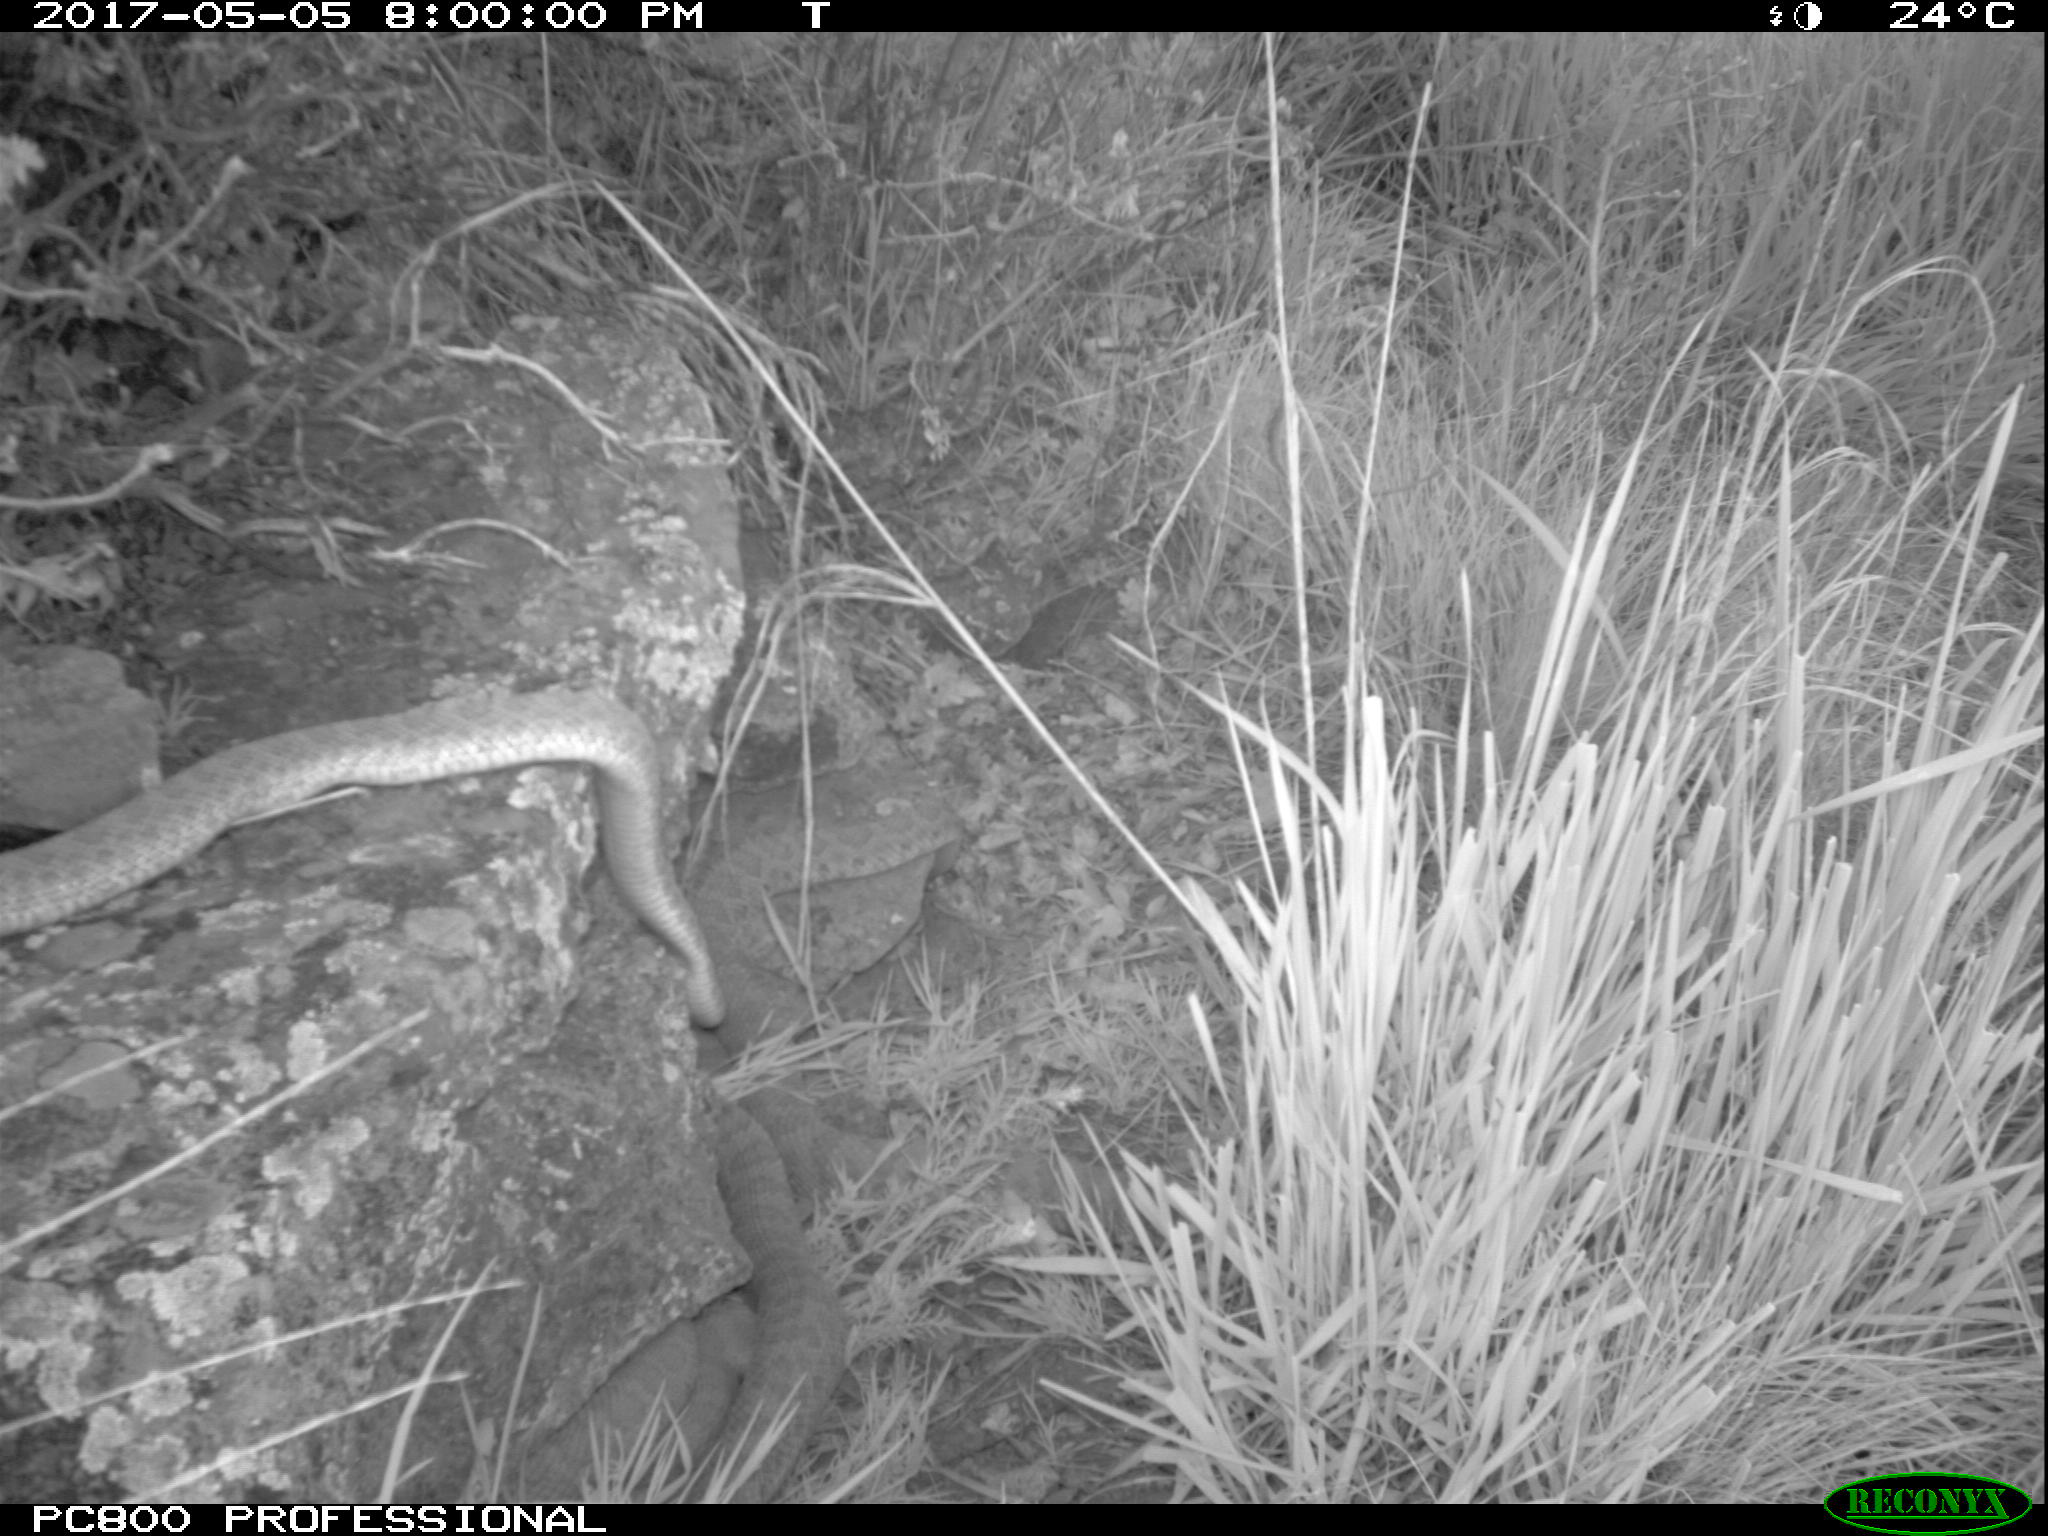snake: (2, 694, 690, 937), (706, 1097, 848, 1504), (714, 802, 971, 992), (518, 1318, 771, 1501), (589, 778, 735, 1047)
